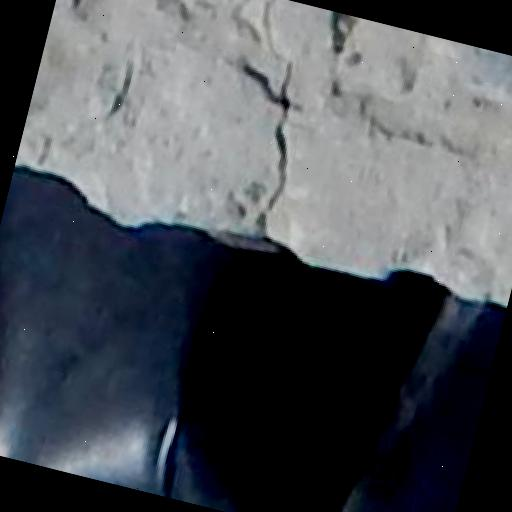spalling: (232, 0, 307, 231), (90, 46, 148, 131)
